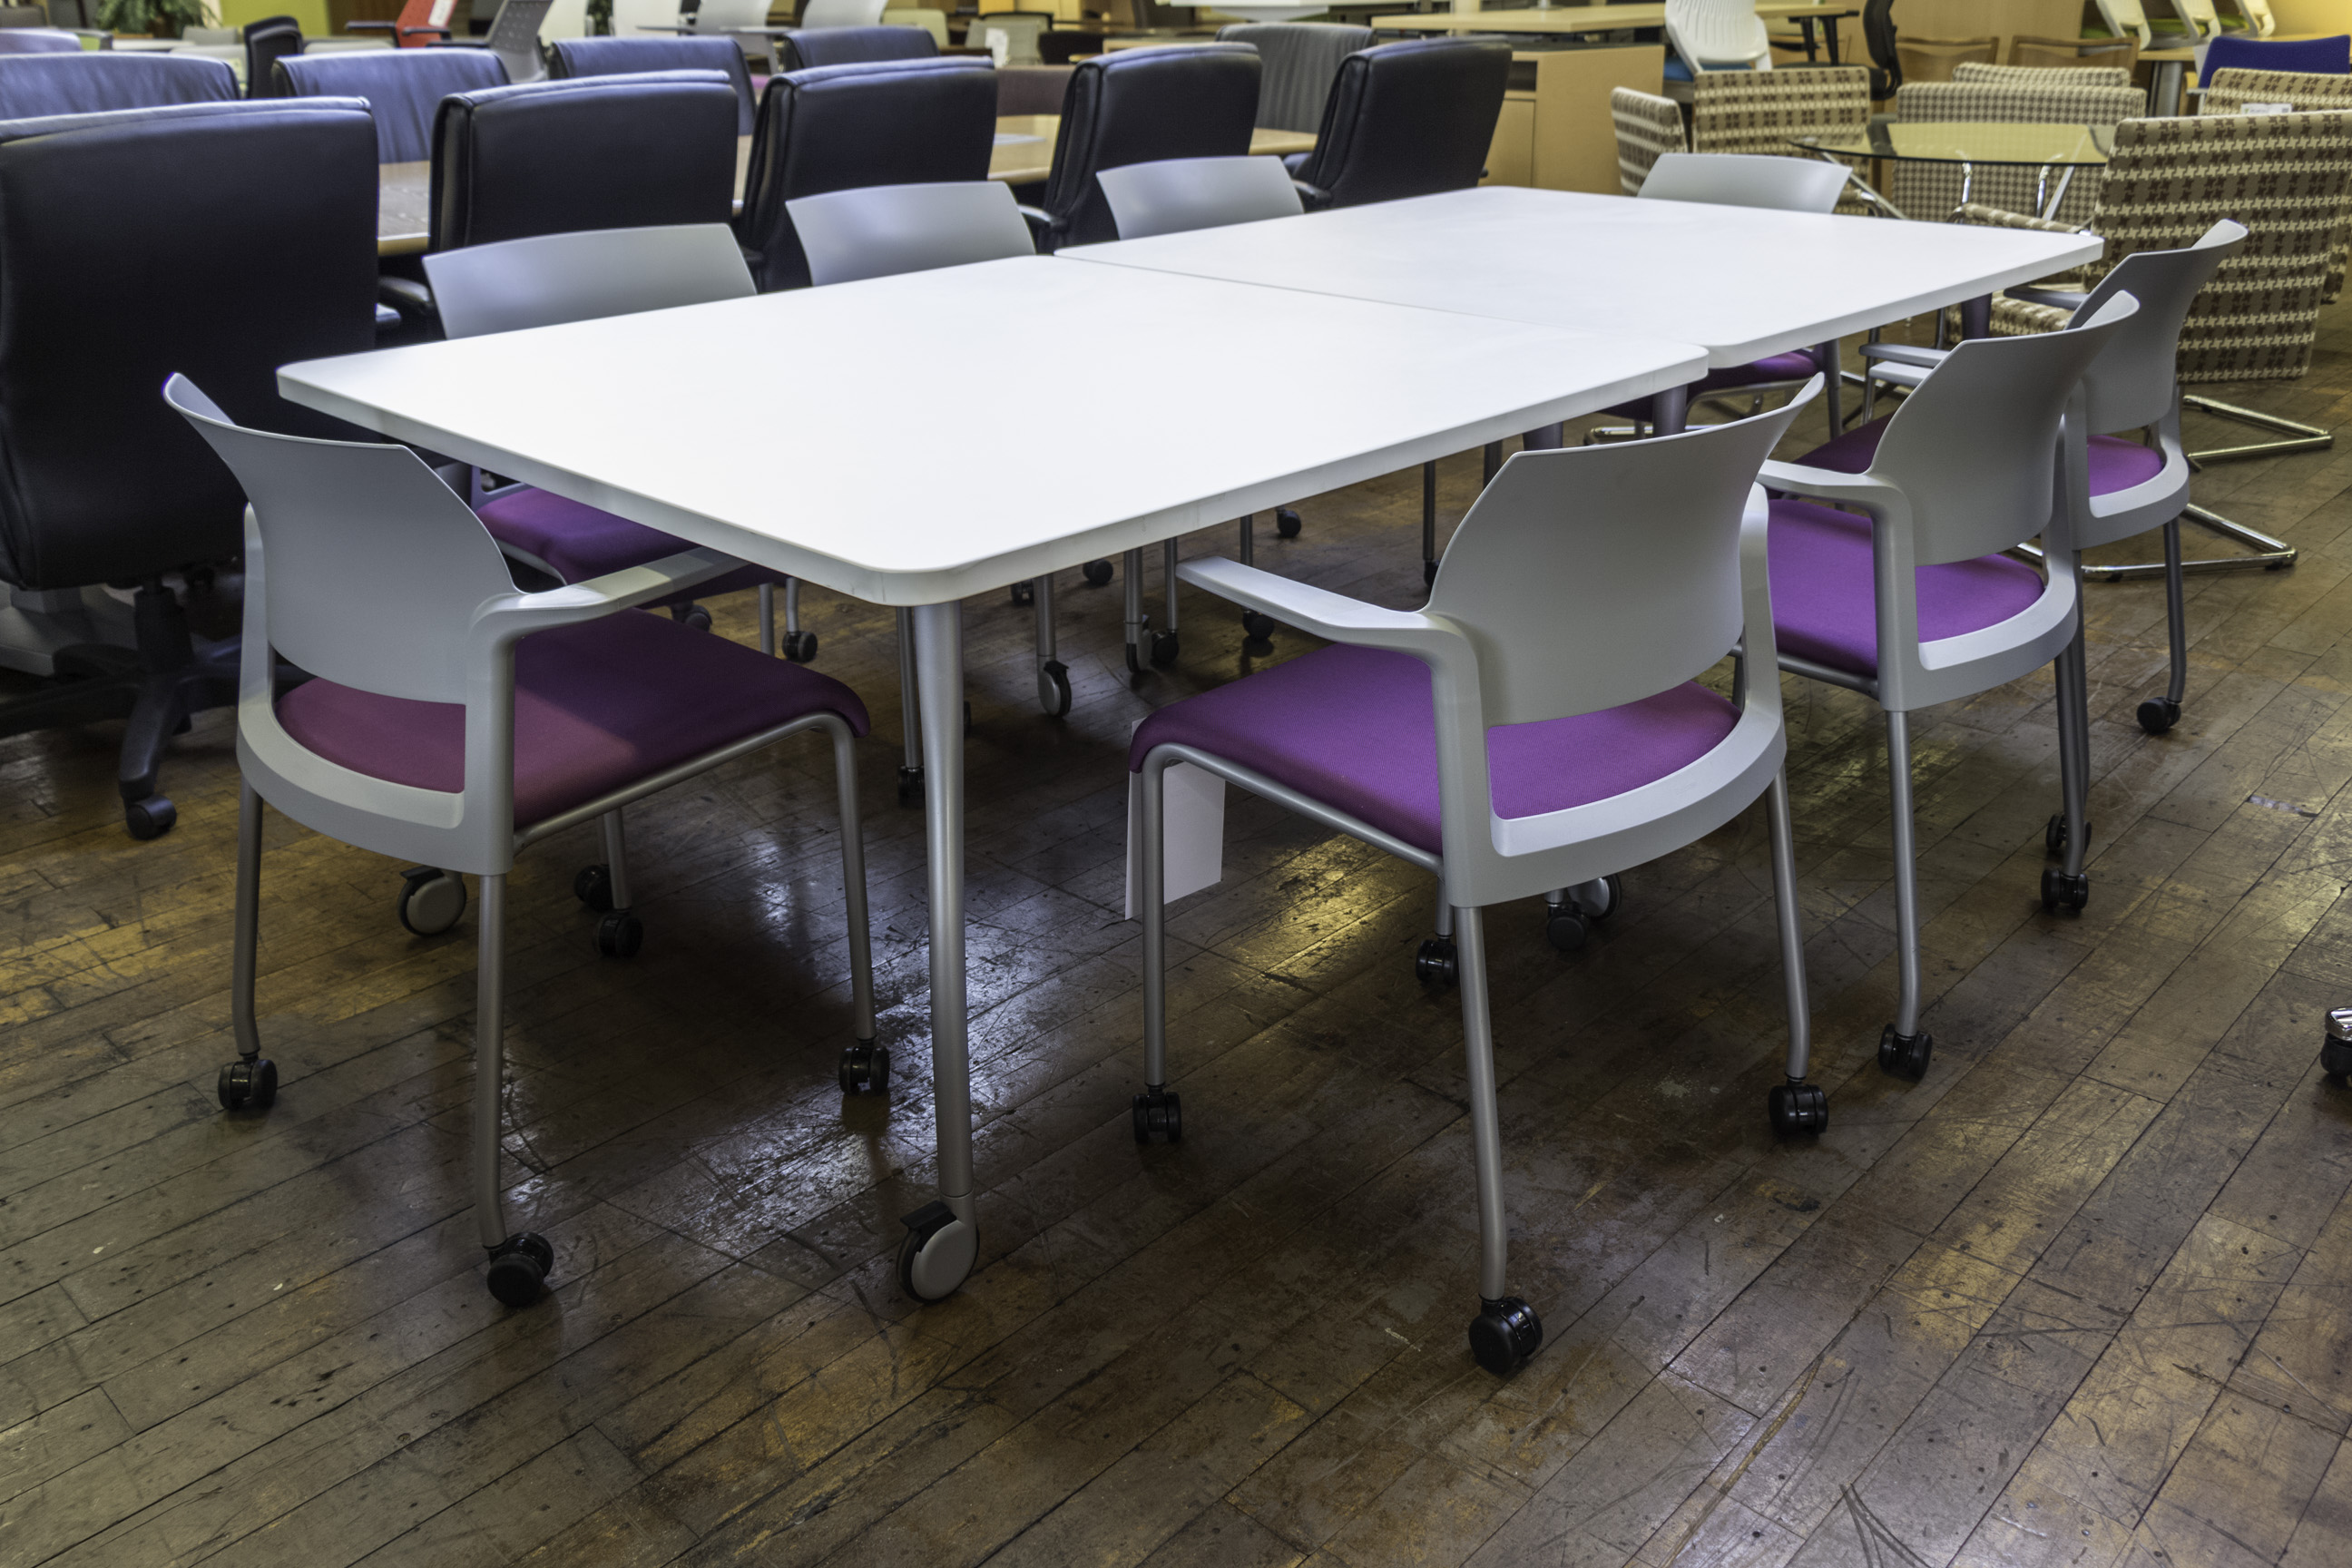conference_table: (278, 182, 2105, 1286), (41, 114, 1317, 332), (1789, 116, 2119, 227)
